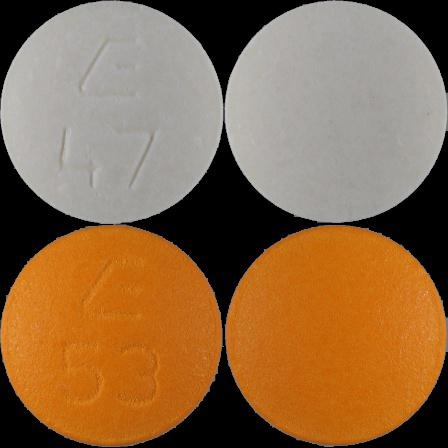0185-0047: (0, 0, 224, 224)
